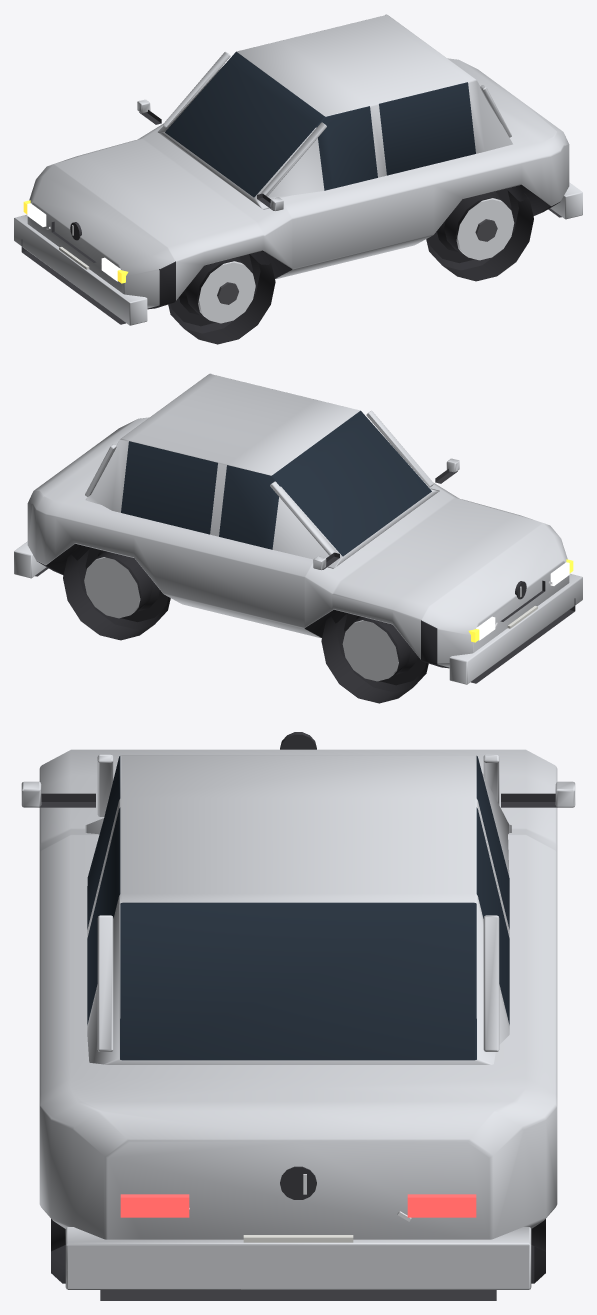
The model's file is car_firenze.glb.
3 views of the same model, one above another, from view 1: azimuth 30°, elevation 25°; view 2: azimuth 150°, elevation 25°; view 3: azimuth 270°, elevation 25° (orthographic). The views are drawn at different scales.
Bounding box in the file's own units: 1.9 × 0.7494 × 1.
